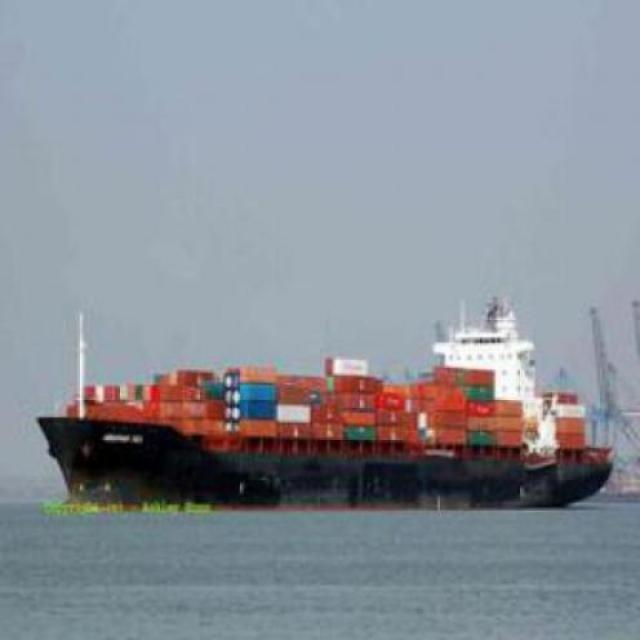boat: (3, 332, 622, 516)
